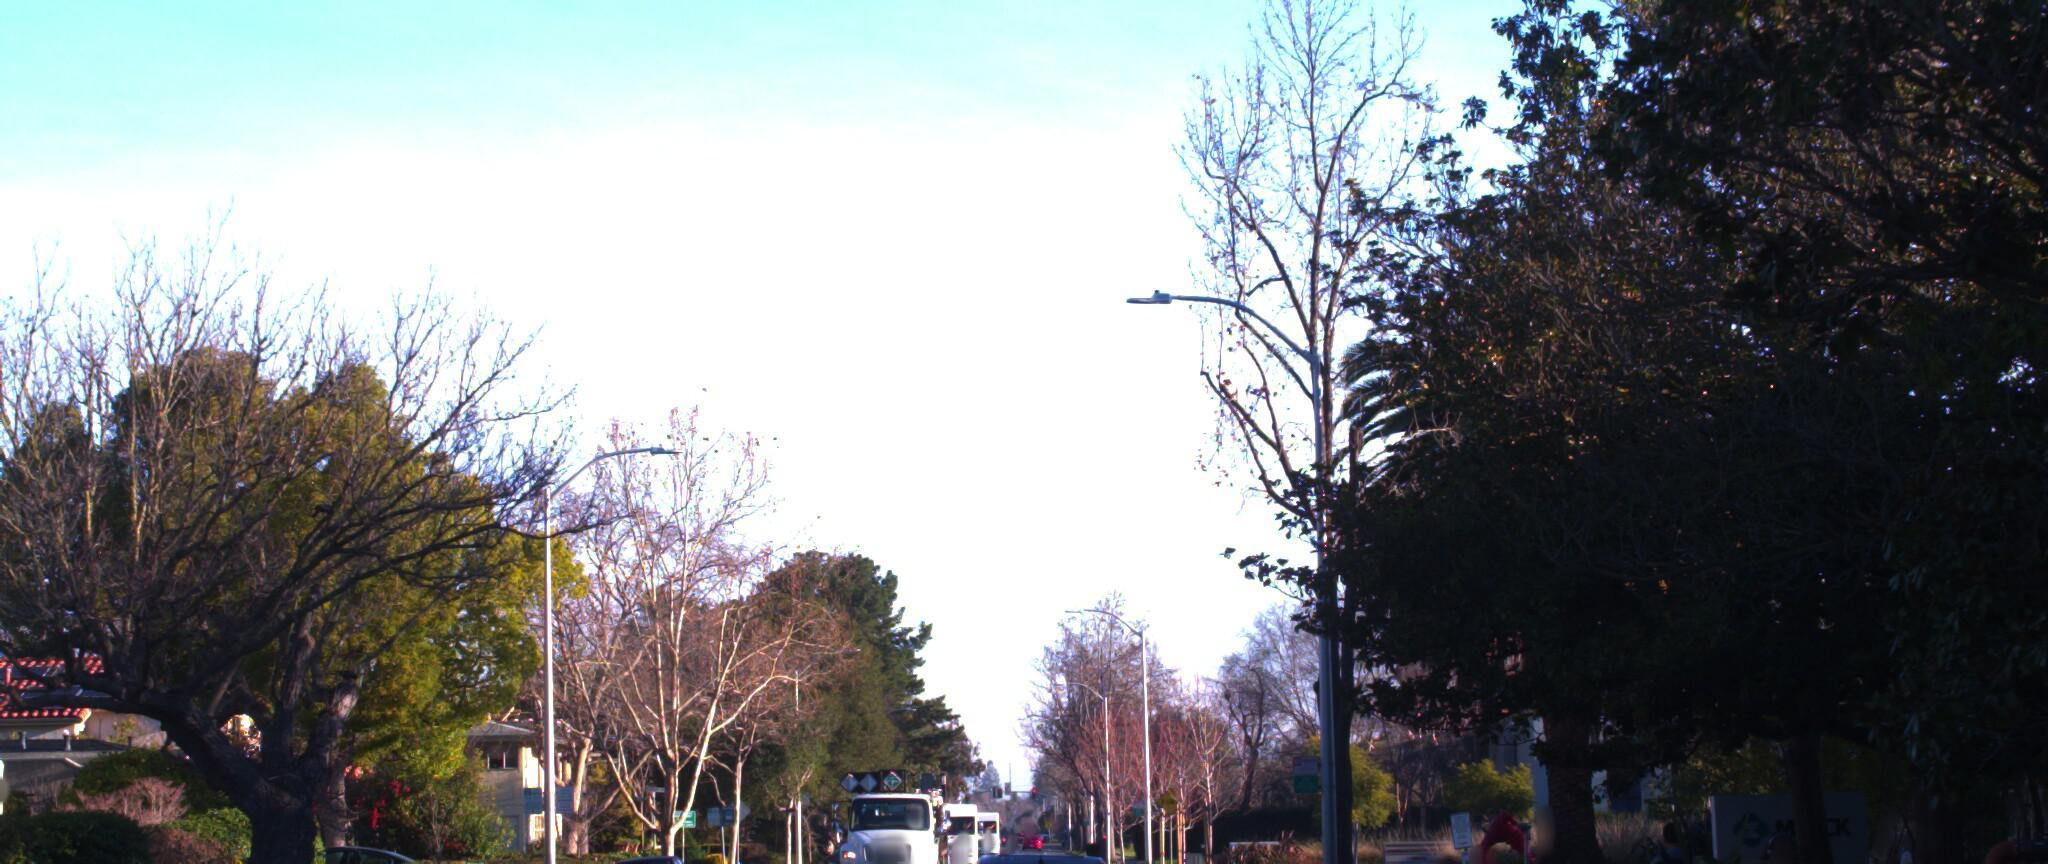car: (923, 826, 1155, 864), (579, 829, 707, 864)
truck: (832, 713, 957, 864)
